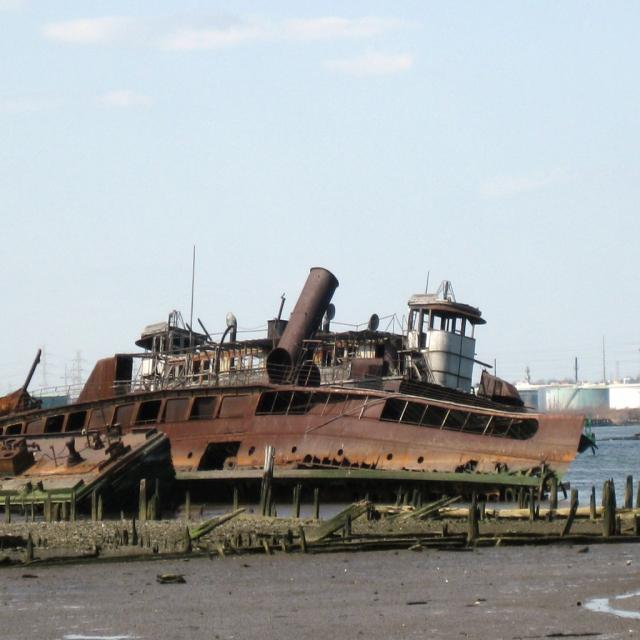Boat: (0, 243, 598, 522)
